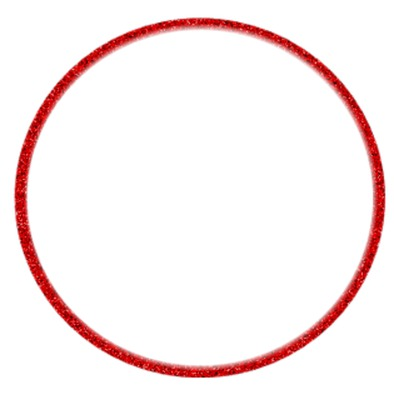circulo: (13, 17, 386, 379)
